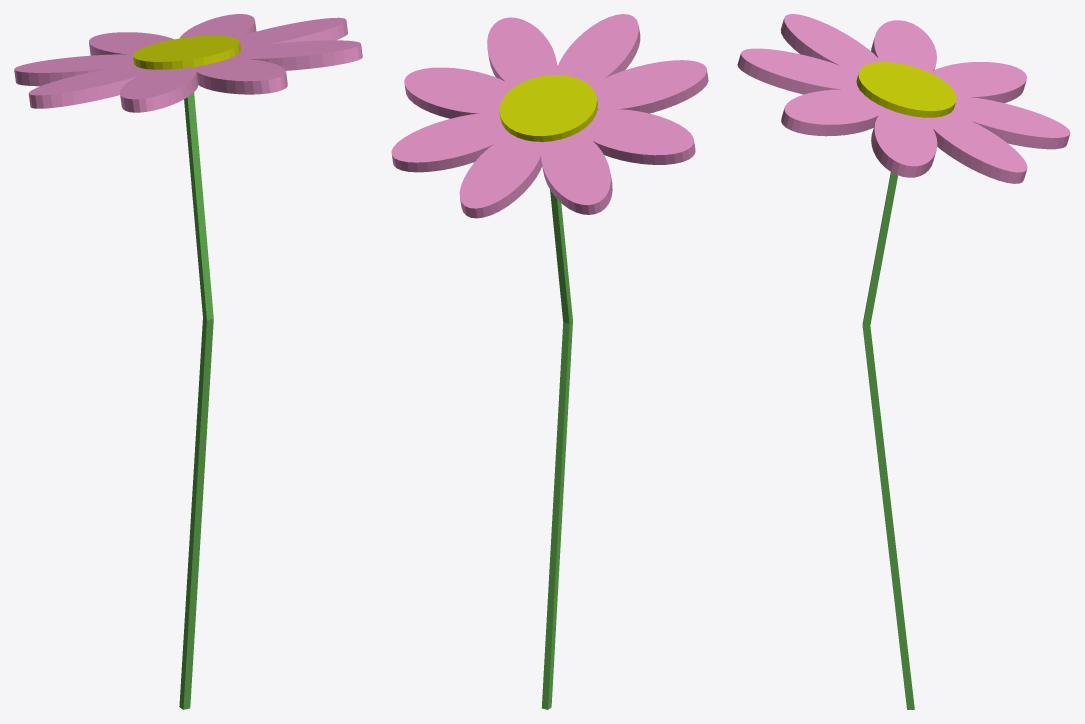
File: Lotos.fbx
The picture shows the model from 3 angles, left to right: view 1: azimuth 30°, elevation 25°; view 2: azimuth 150°, elevation 25°; view 3: azimuth 270°, elevation 25°; orthographic projection. The views are drawn at different scales.
Parts seen in each view (by area): view 1: Cylinder; view 2: Cylinder; view 3: Cylinder.
Boxes of the visible parts, x1=… form: Cylinder: x1=14, y1=14, x2=362, y2=709; Cylinder: x1=391, y1=14, x2=708, y2=709; Cylinder: x1=737, y1=14, x2=1070, y2=709.
Bounding box in the file's own units: 0.2911 × 0.6163 × 0.2842.
